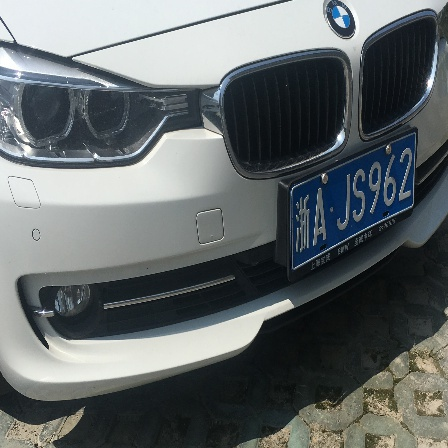plate: (285, 121, 421, 283)
